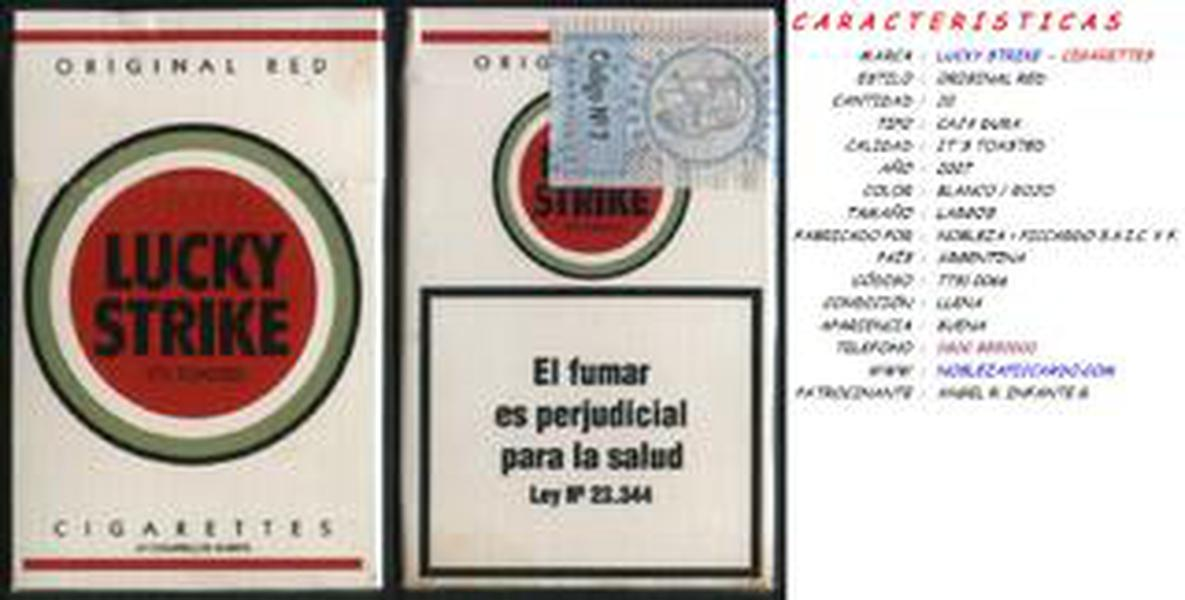lucky_strike_red: (15, 12, 385, 590), (410, 9, 774, 590)
